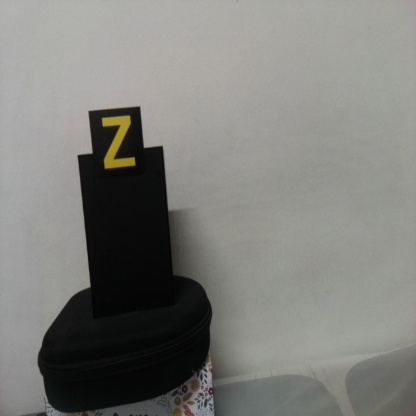id_15: (90, 111, 145, 180)
